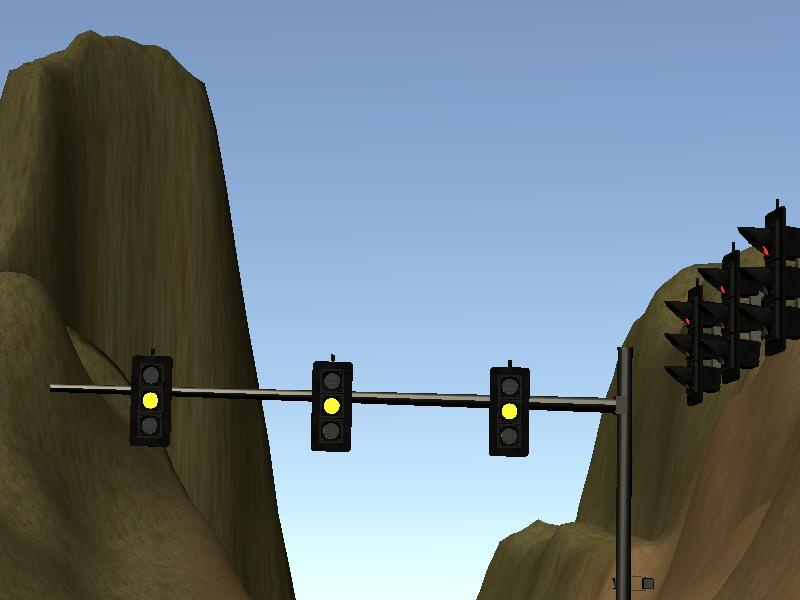YELLOW: (308, 360, 353, 454), (129, 356, 174, 446), (487, 365, 530, 457)
